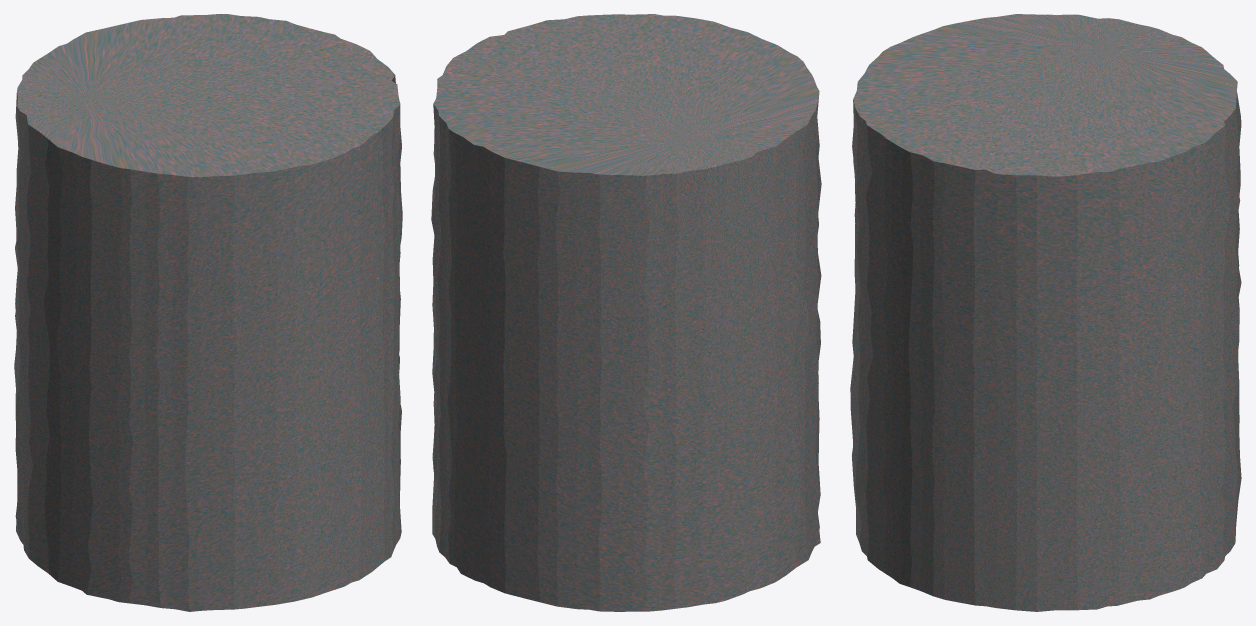
Rendered from barrel_43.dae.
The picture shows the model from 3 angles, left to right: view 1: azimuth 30°, elevation 25°; view 2: azimuth 150°, elevation 25°; view 3: azimuth 270°, elevation 25°; orthographic projection.
Parts seen in each view (by area): view 1: Cylinder; view 2: Cylinder; view 3: Cylinder.
Boxes of the visible parts, x1,y1,x2,y2 form: Cylinder: [14, 14, 402, 611]; Cylinder: [431, 14, 821, 611]; Cylinder: [850, 14, 1241, 611].
Bounding box in the file's own units: 0.824 × 0.8147 × 1.
1 material, 1 textured.
